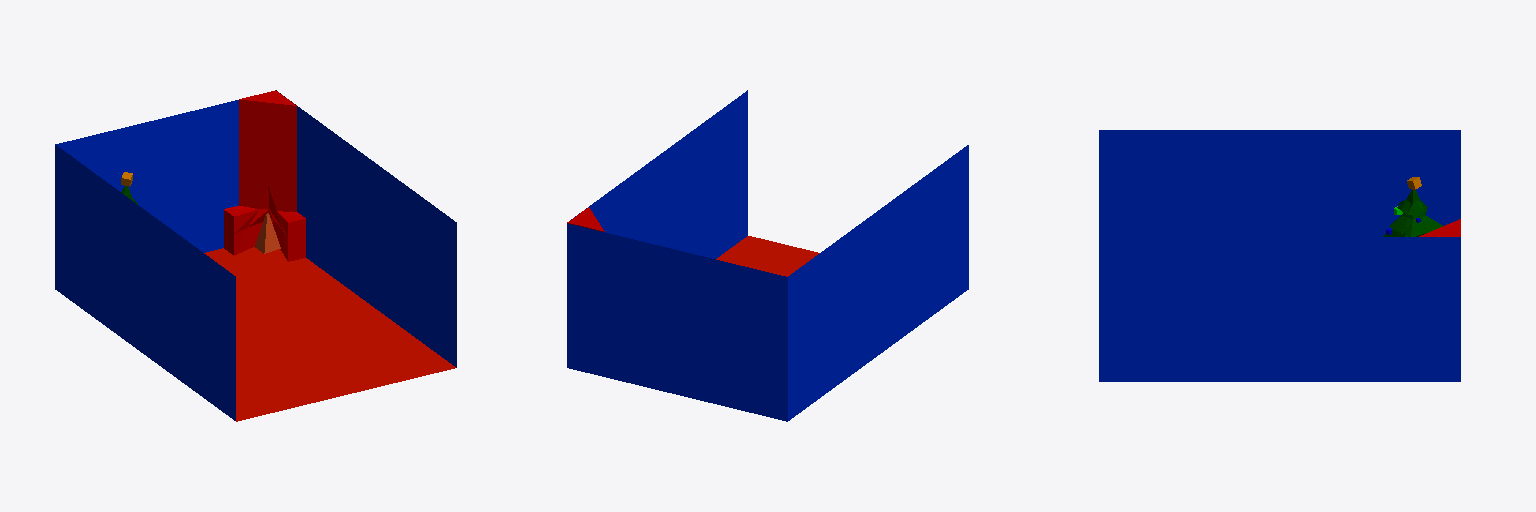
The model's file is scener.obj.
The picture shows the model from 3 angles: view 1: azimuth 30°, elevation 25°; view 2: azimuth 150°, elevation 25°; view 3: azimuth 270°, elevation 25°; orthographic projection.
Visible parts, largest first — view 1: sol_Plane, Cube, Icosphere; view 2: sol_Plane; view 3: sol_Plane, etage4_Circle.010.
Part boxes in pixels (x1,y1,x2,y2): sol_Plane: (55, 90, 456, 421); Cube: (224, 90, 305, 261); Icosphere: (255, 213, 280, 253); sol_Plane: (567, 90, 968, 421); sol_Plane: (1099, 130, 1460, 381); etage4_Circle.010: (1389, 213, 1442, 236).
Bounding box in the file's own units: 5.91 × 3.73 × 8.4.